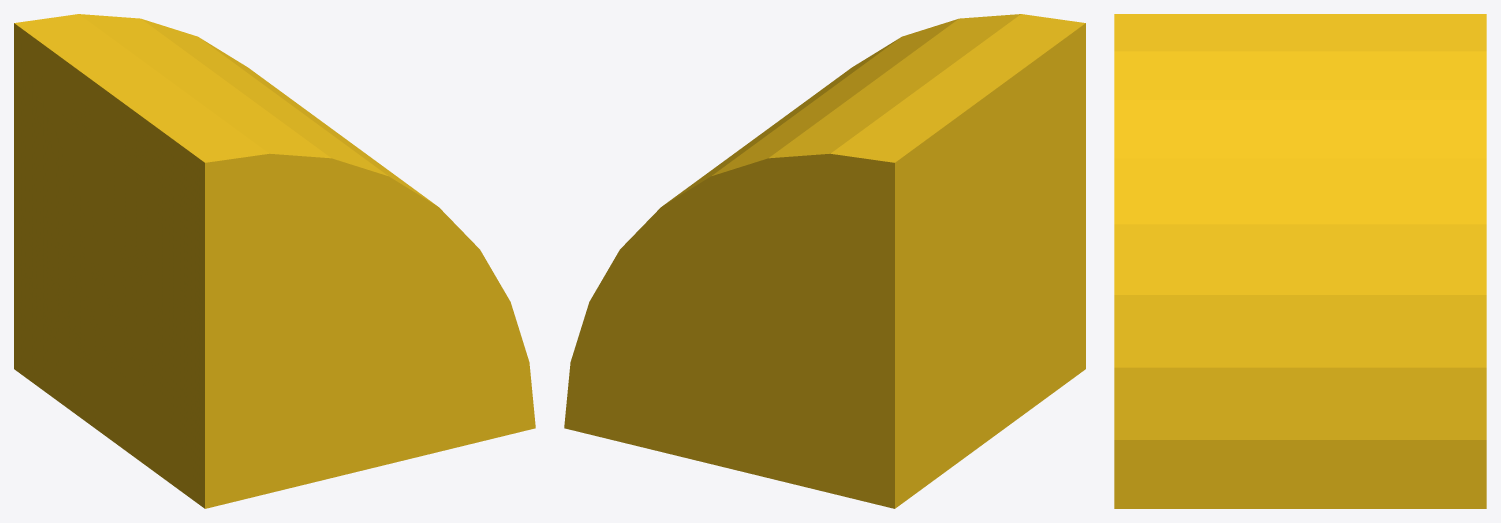
File: r4c3_body_yellow.gltf
3 views of the same model, side by side, from view 1: azimuth 30°, elevation 25°; view 2: azimuth 150°, elevation 25°; view 3: azimuth 270°, elevation 25° (orthographic). The views are drawn at different scales.
Parts seen in each view (by area): view 1: r4c3_body_yellow; view 2: r4c3_body_yellow; view 3: r4c3_body_yellow.
Part boxes in pixels (bbox=[...]): r4c3_body_yellow: bbox=[14, 14, 535, 508]; r4c3_body_yellow: bbox=[564, 14, 1085, 508]; r4c3_body_yellow: bbox=[1114, 14, 1486, 508].
Size of what is drawn, in the model's own units: 2 by 2 by 2.
Materials: 1 (1 with a texture image).
